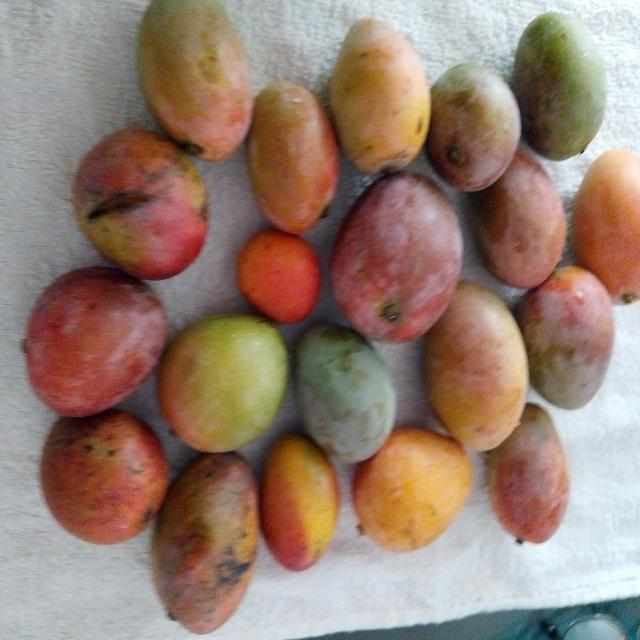mango: (18, 262, 168, 416), (66, 125, 213, 282), (331, 172, 462, 342), (151, 453, 259, 633), (138, 0, 253, 160), (158, 314, 288, 451), (424, 282, 528, 450), (40, 410, 168, 543), (330, 18, 430, 173), (353, 427, 471, 551), (517, 266, 614, 409), (513, 12, 606, 160), (296, 325, 396, 462), (248, 82, 338, 233), (470, 150, 566, 288), (426, 63, 520, 191), (488, 404, 569, 543), (260, 434, 339, 571), (572, 149, 639, 303), (232, 231, 324, 323)
